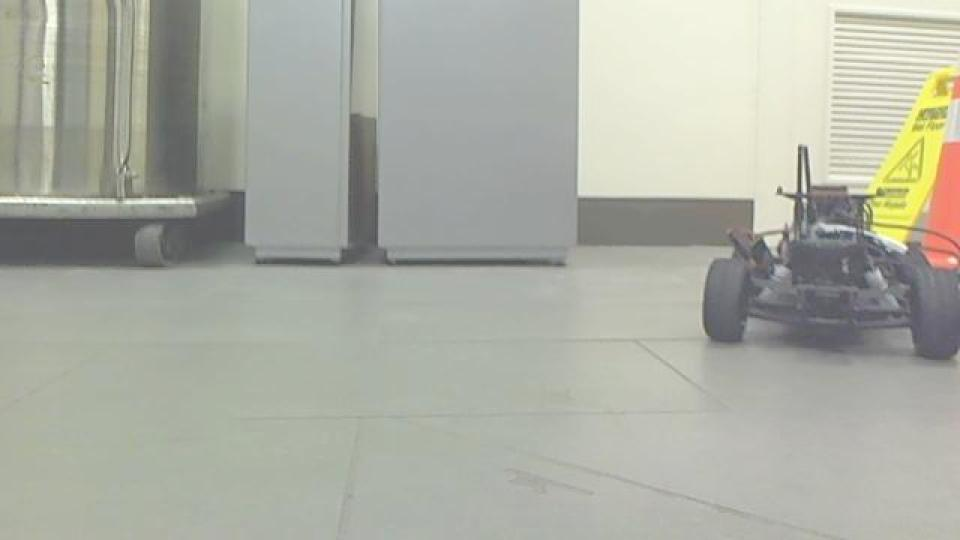car: (697, 63, 957, 361)
